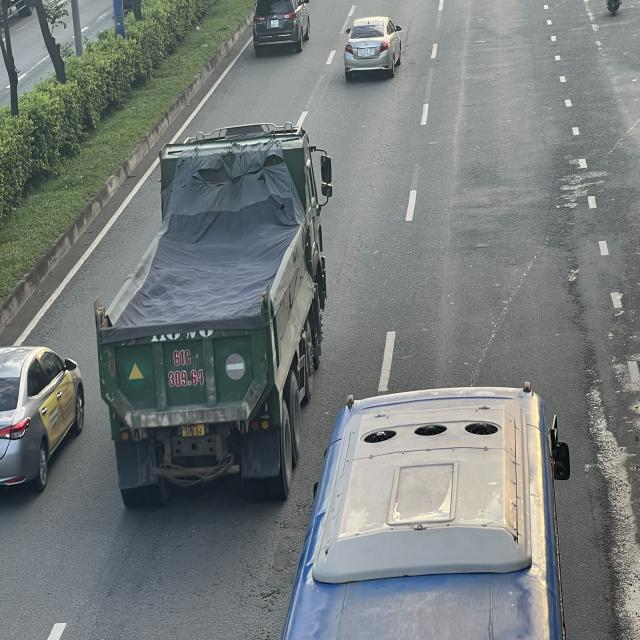car: (342, 18, 402, 81), (251, 0, 311, 53)
coach: (283, 388, 574, 640)
container: (93, 125, 330, 502)
